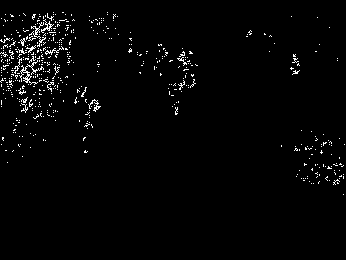person: (74, 84, 101, 154)
